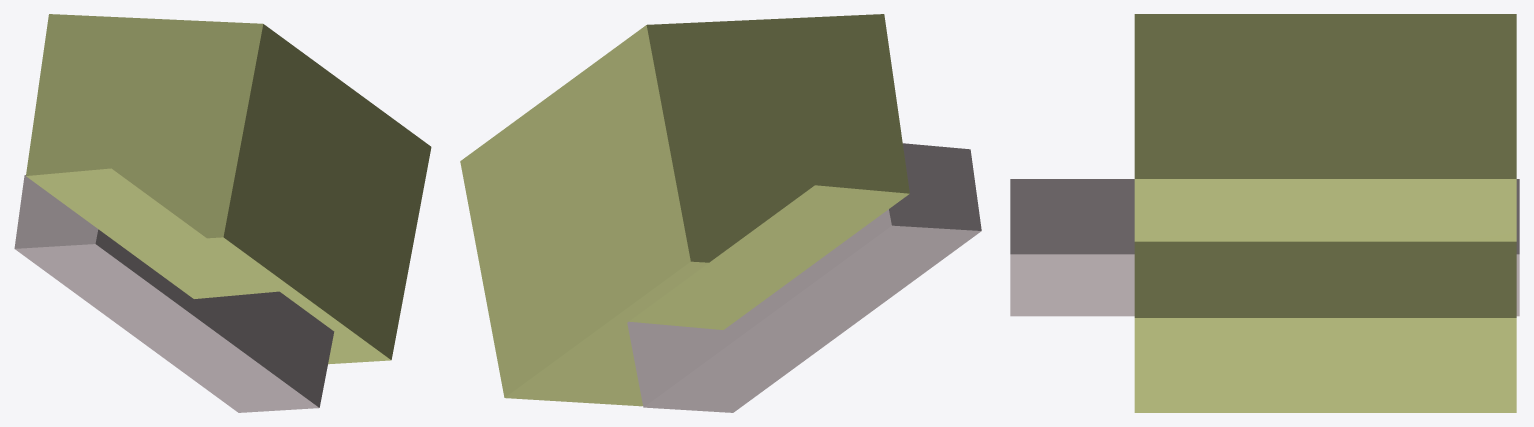
3 views of the same model, side by side, from view 1: azimuth 30°, elevation 25°; view 2: azimuth 150°, elevation 25°; view 3: azimuth 270°, elevation 25° (orthographic). The views are drawn at different scales.
Visible parts, largest first — view 1: 0_1_2_0_1_0_1_1_1_2_0; view 2: 0_1_2_0_1_0_1_1_1_2_0; view 3: 0_1_2_0_1_0_1_1_1_2_0.
Part boxes in pixels (x1,y1,x2,y2): 0_1_2_0_1_0_1_1_1_2_0: [14, 14, 431, 412]; 0_1_2_0_1_0_1_1_1_2_0: [460, 14, 981, 412]; 0_1_2_0_1_0_1_1_1_2_0: [1010, 14, 1519, 412].
Size of the model in its own units: 7.65 by 7.85 by 12.
